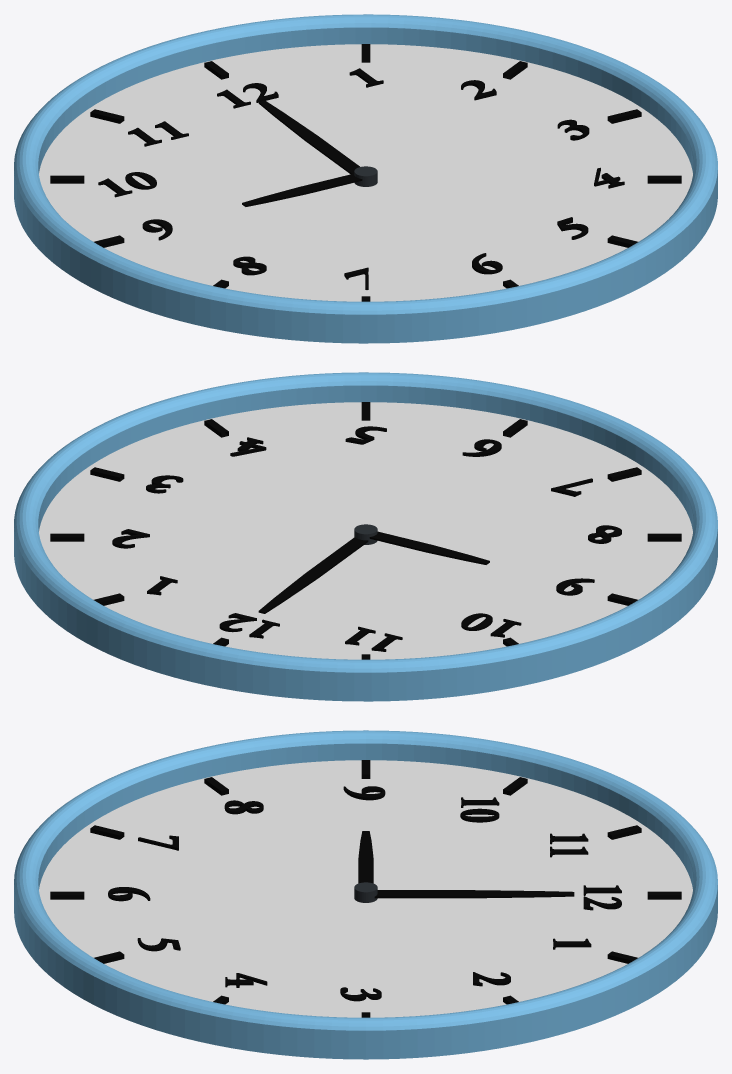
The model's file is Jam.fbx.
3 views of the same model, one above another, from view 1: azimuth 30°, elevation 25°; view 2: azimuth 150°, elevation 25°; view 3: azimuth 270°, elevation 25° (orthographic).
Visible parts, largest first — view 1: Circle, Cube, Plane, Plane.002, Text.008, Text; view 2: Circle, Cube, Plane, Plane.002, Text.008, Text; view 3: Circle, Cube, Plane, Plane.002, Text.008, Text.
Boxes of the visible parts, x1,y1,x2,y2 form: Circle: (14,14,717,343); Cube: (50,44,681,301); Plane: (258,100,359,174); Plane.002: (242,173,362,206); Text.008: (98,172,156,197); Text: (217,83,278,108); Circle: (14,372,717,701); Cube: (50,402,681,659); Plane: (258,537,368,613); Plane.002: (369,531,489,564); Text.008: (461,613,521,637); Text: (219,613,279,638); Circle: (14,730,717,1059); Cube: (50,760,681,1017); Plane: (374,890,574,898); Plane.002: (358,831,373,883); Text.008: (460,797,499,822); Text: (583,885,621,910).
Size of the model in its own units: 28.49 by 3.04 by 28.49.
